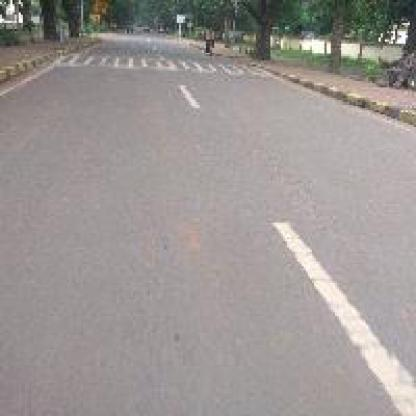Speed Bump: (48, 50, 274, 77)
